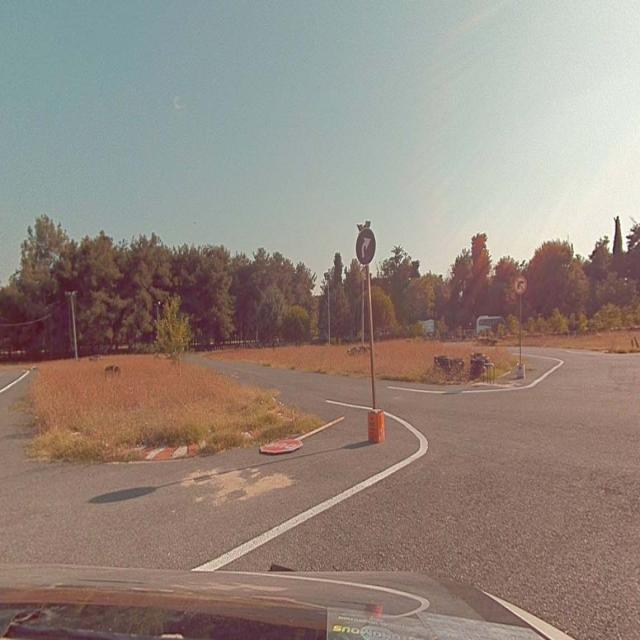sag: (356, 228, 375, 263)
sagadonulmez: (514, 275, 527, 293)
